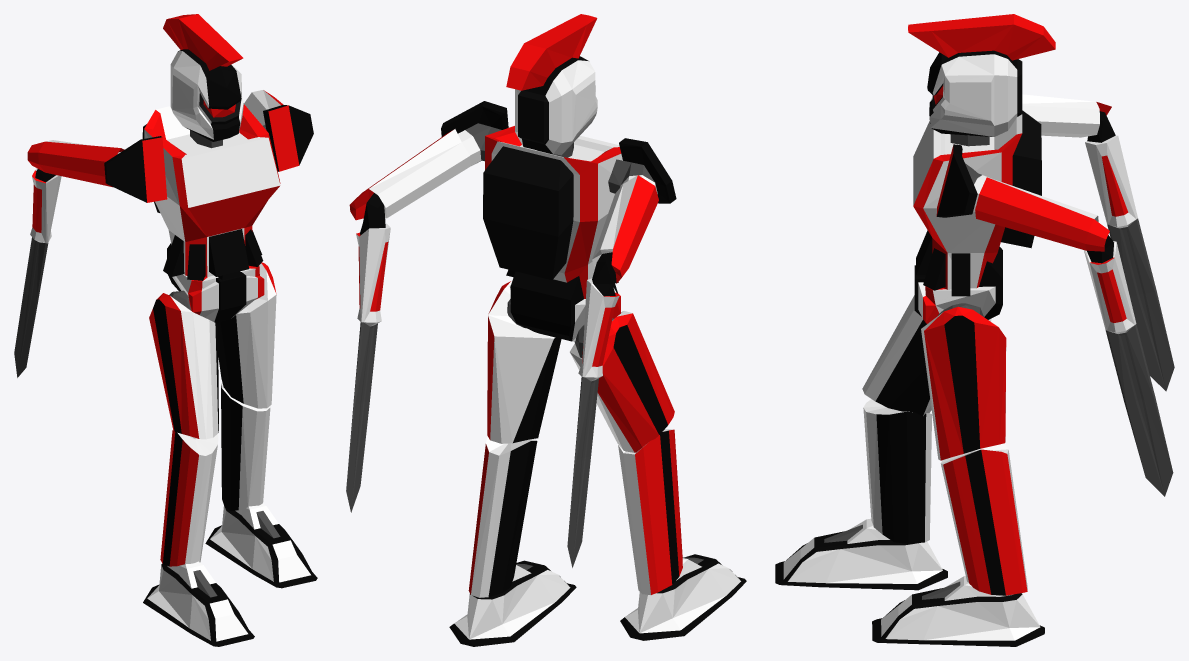
File: robots_000005.obj
3 renders of one model, left to right at view 1: azimuth 30°, elevation 25°; view 2: azimuth 150°, elevation 25°; view 3: azimuth 270°, elevation 25°, orthographic. The views are drawn at different scales.
Visible parts, largest first — view 1: Chest_plate_Cube.004, Head_gladiator_Cube.024, R_Thigh_Cube.005, R_Forearm.001_Cube.028, R_Shin_Cube.007, R_Thigh.002_Cube.027, R_Foot_Cube, R_Foot.002_Cube.035, R_Shin.002_Cube.029, Pelvis_Cube.006, R_Arm.002_Cube.032, R_Arm.003_Cube.034 (+1 smaller); view 2: Chest_plate_Cube.004, R_Forearm.002_Cube.033, R_Forearm.001_Cube.028, Head_gladiator_Cube.024, R_Thigh.002_Cube.027, R_Shin_Cube.007, R_Shin.002_Cube.029, R_Thigh_Cube.005, R_Foot_Cube, R_Foot.002_Cube.035, Pelvis_Cube.006, R_Arm.002_Cube.032 (+1 smaller); view 3: R_Forearm.002_Cube.033, Chest_plate_Cube.004, Head_gladiator_Cube.024, R_Forearm.001_Cube.028, R_Thigh.002_Cube.027, R_Shin.002_Cube.029, R_Shin_Cube.007, R_Foot.002_Cube.035, R_Foot_Cube, R_Thigh_Cube.005, Pelvis_Cube.006, R_Arm.003_Cube.034.
Boxes of the visible parts, bbox=[...] form: Chest_plate_Cube.004: bbox=[142, 104, 280, 280]; Head_gladiator_Cube.024: bbox=[163, 14, 243, 141]; R_Thigh_Cube.005: bbox=[149, 293, 218, 439]; R_Forearm.001_Cube.028: bbox=[14, 140, 124, 377]; R_Shin_Cube.007: bbox=[160, 430, 218, 566]; R_Thigh.002_Cube.027: bbox=[216, 262, 276, 408]; R_Foot_Cube: bbox=[143, 561, 254, 646]; R_Foot.002_Cube.035: bbox=[205, 503, 317, 588]; R_Shin.002_Cube.029: bbox=[221, 383, 270, 510]; Pelvis_Cube.006: bbox=[167, 243, 264, 322]; R_Arm.002_Cube.032: bbox=[104, 136, 167, 202]; R_Arm.003_Cube.034: bbox=[263, 104, 313, 171]; Chest_plate_Cube.004: bbox=[483, 126, 622, 298]; R_Forearm.002_Cube.033: bbox=[346, 129, 470, 512]; R_Forearm.001_Cube.028: bbox=[567, 175, 658, 567]; Head_gladiator_Cube.024: bbox=[506, 14, 597, 155]; R_Thigh.002_Cube.027: bbox=[487, 281, 561, 443]; R_Shin_Cube.007: bbox=[618, 428, 682, 594]; R_Shin.002_Cube.029: bbox=[468, 436, 537, 597]; R_Thigh_Cube.005: bbox=[570, 311, 674, 452]; R_Foot_Cube: bbox=[620, 554, 746, 640]; R_Foot.002_Cube.035: bbox=[449, 560, 576, 646]; Pelvis_Cube.006: bbox=[510, 271, 620, 341]; R_Arm.002_Cube.032: bbox=[608, 138, 676, 203]; R_Forearm.002_Cube.033: bbox=[975, 177, 1173, 496]; Chest_plate_Cube.004: bbox=[913, 110, 1041, 296]; Head_gladiator_Cube.024: bbox=[908, 14, 1055, 136]; R_Forearm.001_Cube.028: bbox=[1022, 94, 1174, 391]; R_Thigh.002_Cube.027: bbox=[921, 306, 1006, 460]; R_Shin.002_Cube.029: bbox=[940, 443, 1027, 595]; R_Shin_Cube.007: bbox=[863, 399, 931, 543]; R_Foot.002_Cube.035: bbox=[872, 576, 1044, 646]; R_Foot_Cube: bbox=[775, 518, 947, 590]; R_Thigh_Cube.005: bbox=[862, 295, 991, 416]; Pelvis_Cube.006: bbox=[914, 246, 1002, 323]; R_Arm.003_Cube.034: bbox=[936, 144, 990, 217].
Size of the model in its own units: 1.51 by 3.18 by 1.96.
